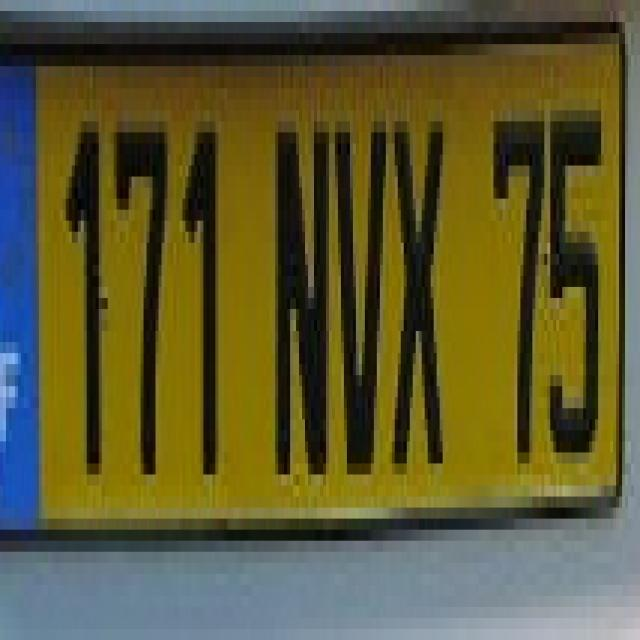1: (176, 110, 228, 519), (62, 99, 108, 508)
5: (544, 77, 604, 486)
7: (490, 55, 548, 475), (114, 110, 164, 486)
N: (269, 77, 335, 486)
V: (335, 77, 383, 508)
X: (392, 88, 452, 497)
